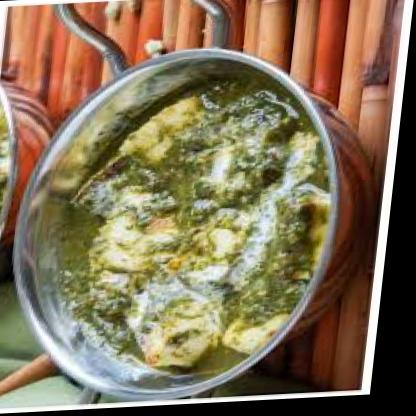palak_paneer: (54, 73, 346, 381)
